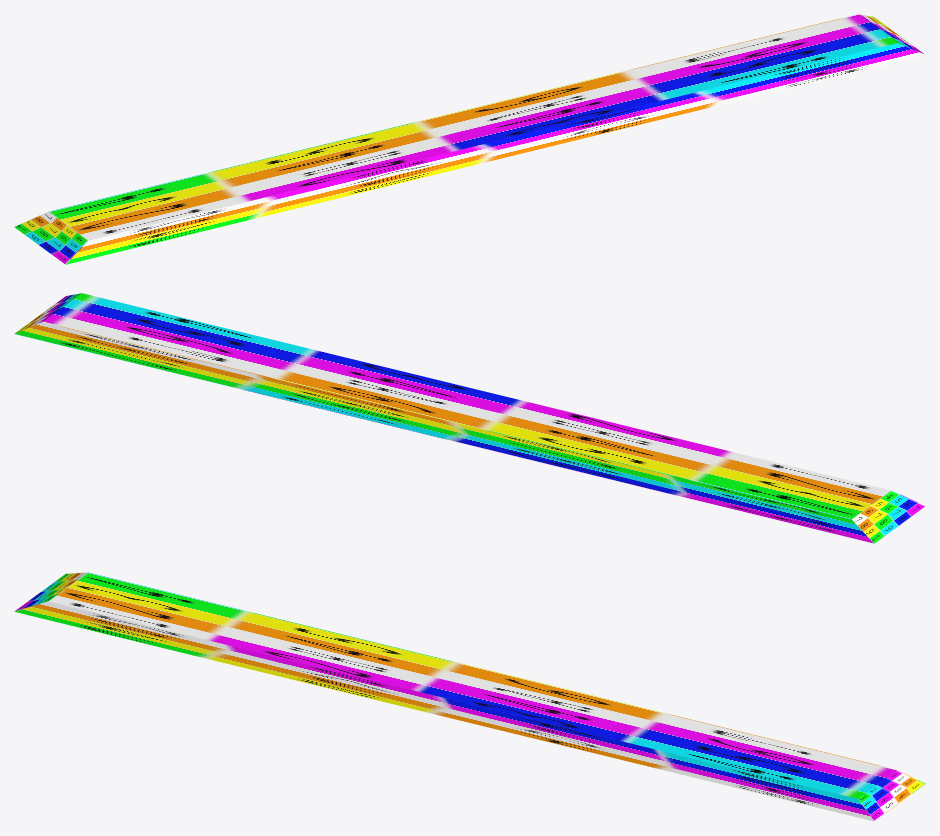
The model's file is Ground3.fbx.
3 views of the same model, one above another, from view 1: azimuth 30°, elevation 25°; view 2: azimuth 150°, elevation 25°; view 3: azimuth 330°, elevation 25° (orthographic).
Visible parts, largest first — view 1: Cube; view 2: Cube; view 3: Cube.
Part boxes in pixels (box(x1,y1,x2,y2)): Cube: box(14, 14, 925, 264); Cube: box(14, 293, 925, 543); Cube: box(14, 572, 925, 821).
Size of the model in its own units: 21100 by 300 by 2200.
Materials: 1 (1 with a texture image).
